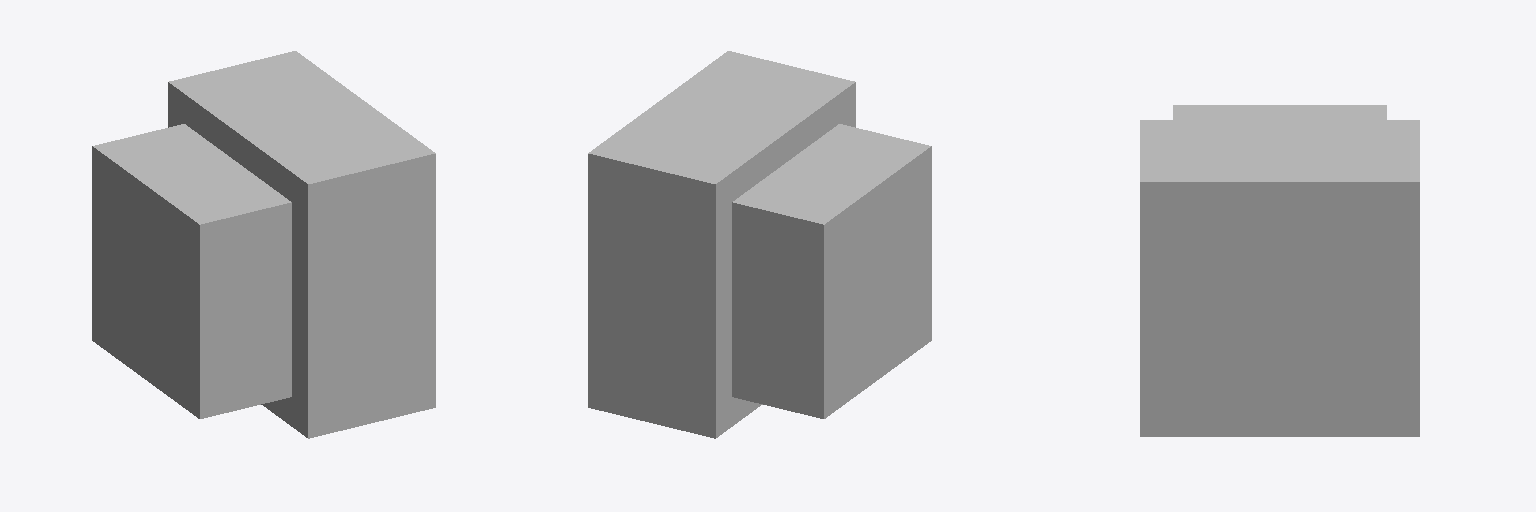
File: button_off.obj
The picture shows the model from 3 angles: view 1: azimuth 30°, elevation 25°; view 2: azimuth 150°, elevation 25°; view 3: azimuth 270°, elevation 25°; orthographic projection.
Parts seen in each view (by area): view 1: pasted__pasted__pCube11 pasted__group32 group37; view 2: pasted__pasted__pCube11 pasted__group32 group37; view 3: pasted__pasted__pCube11 pasted__group32 group37.
Part boxes in pixels (x1,y1,x2,y2): pasted__pasted__pCube11 pasted__group32 group37: (92,51,435,438); pasted__pasted__pCube11 pasted__group32 group37: (588,51,931,438); pasted__pasted__pCube11 pasted__group32 group37: (1140,105,1419,436).
Bounding box in the file's own units: 0.9044 × 1 × 1.